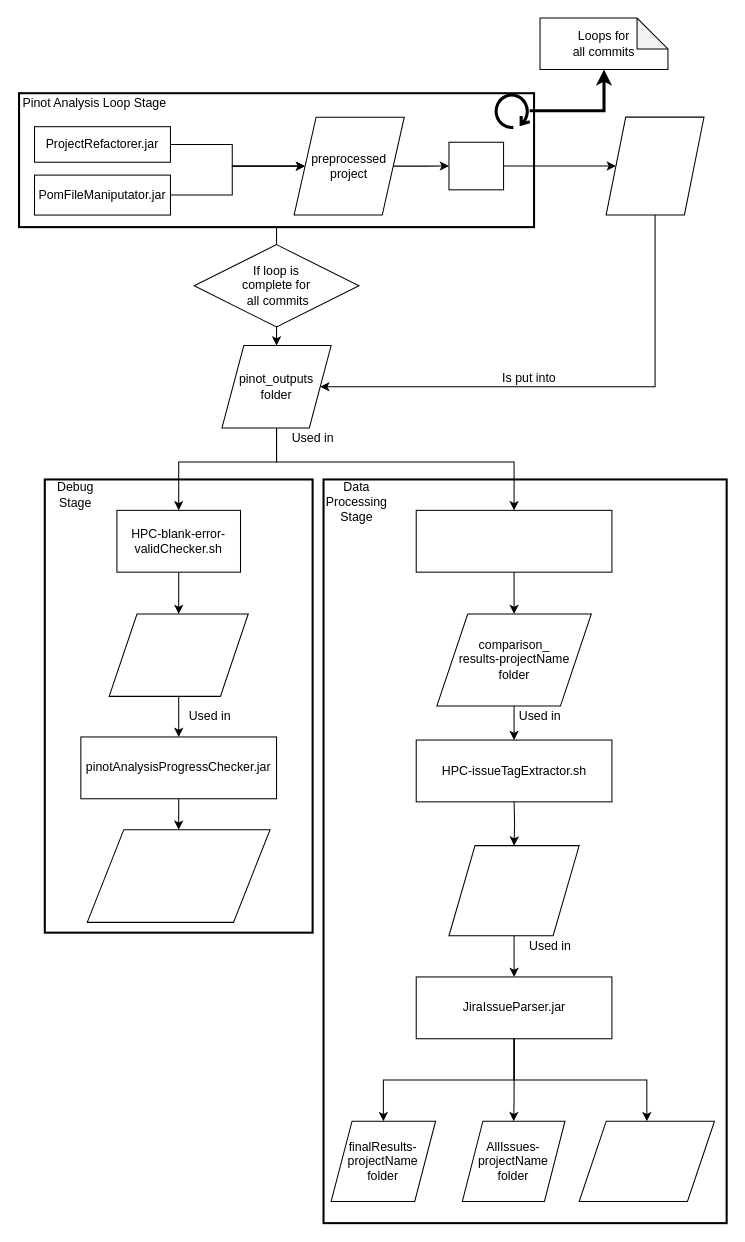
Some shapes in this 745 by 1242 pixel diagram are drawn without their labels. The shapes that lost their labels are listed below. From the top down, each one's centre as x and y in pixels, then its label:
At pixel 476 165: "Pinot".
At pixel 654 165: "pinot analysis".
At pixel 513 540: "pinotOutputComparator.jar".
At pixel 178 654: "additional- -Information folder".
At pixel 178 875: "projectName-progressAnalysis.csv".
At pixel 513 890: "projectName-issueTags folder".
At pixel 646 1160: "patternsMentioned InIssues.txt".
